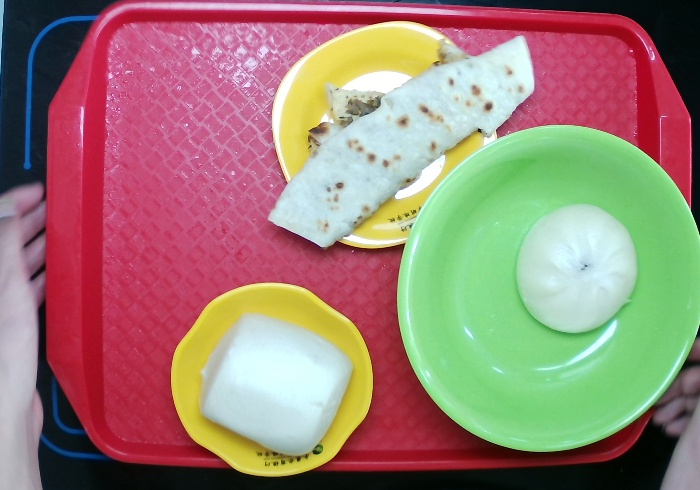YKMZ-Huang_Se_Ao_Bian_Wan: (154, 286, 379, 478)
YKMZ-Huang_Se_Fang_Die: (274, 25, 505, 252)
YKMZ-Lv_Se_Tang_Wan: (393, 124, 700, 462)
